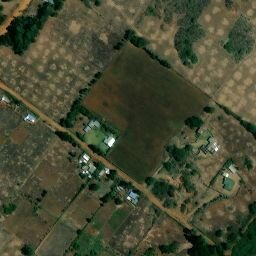tree: (144, 176, 155, 185), (88, 183, 98, 191), (203, 106, 214, 113), (214, 229, 223, 237), (218, 115, 224, 121), (76, 229, 82, 234), (87, 218, 92, 223)
